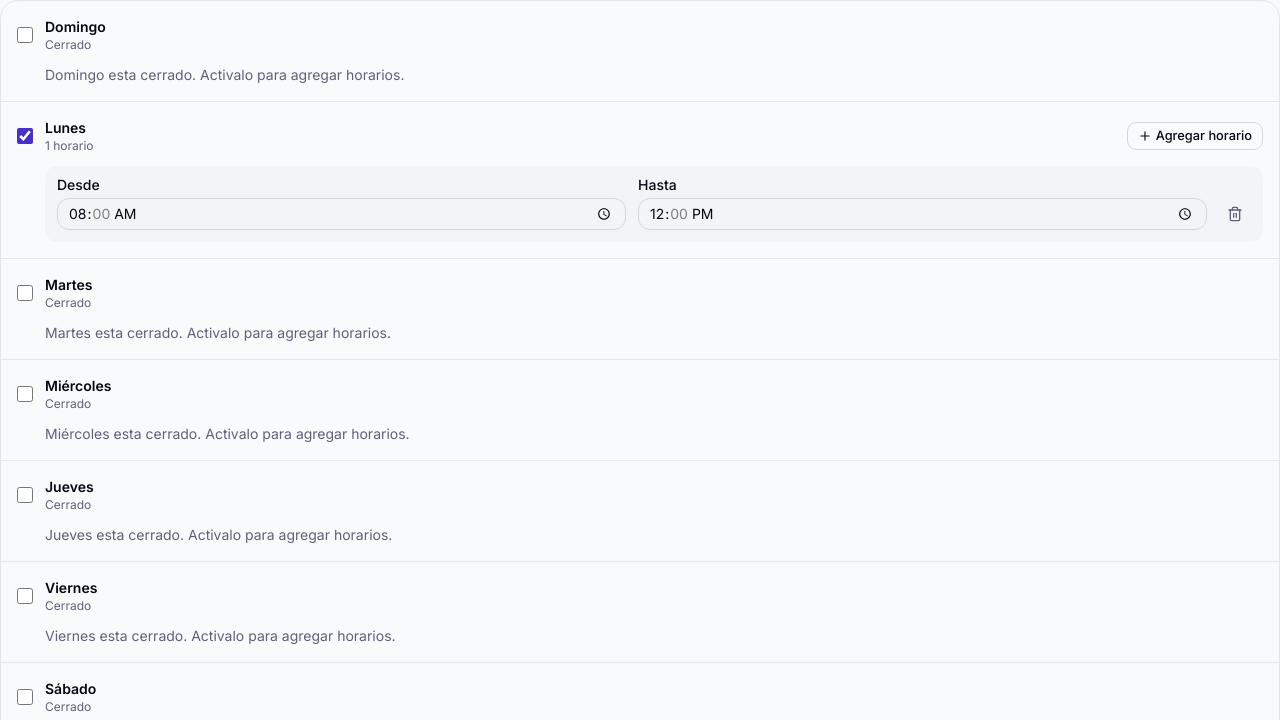
Test: WeeklyAvailabilityEditor › cerrar un dia elimina sus rangos del valor enviado
This screenshot has width=1280, height=720.
Click the checkbox named "lunes abierto". click: [25, 136]
box: [17,128,33,144]
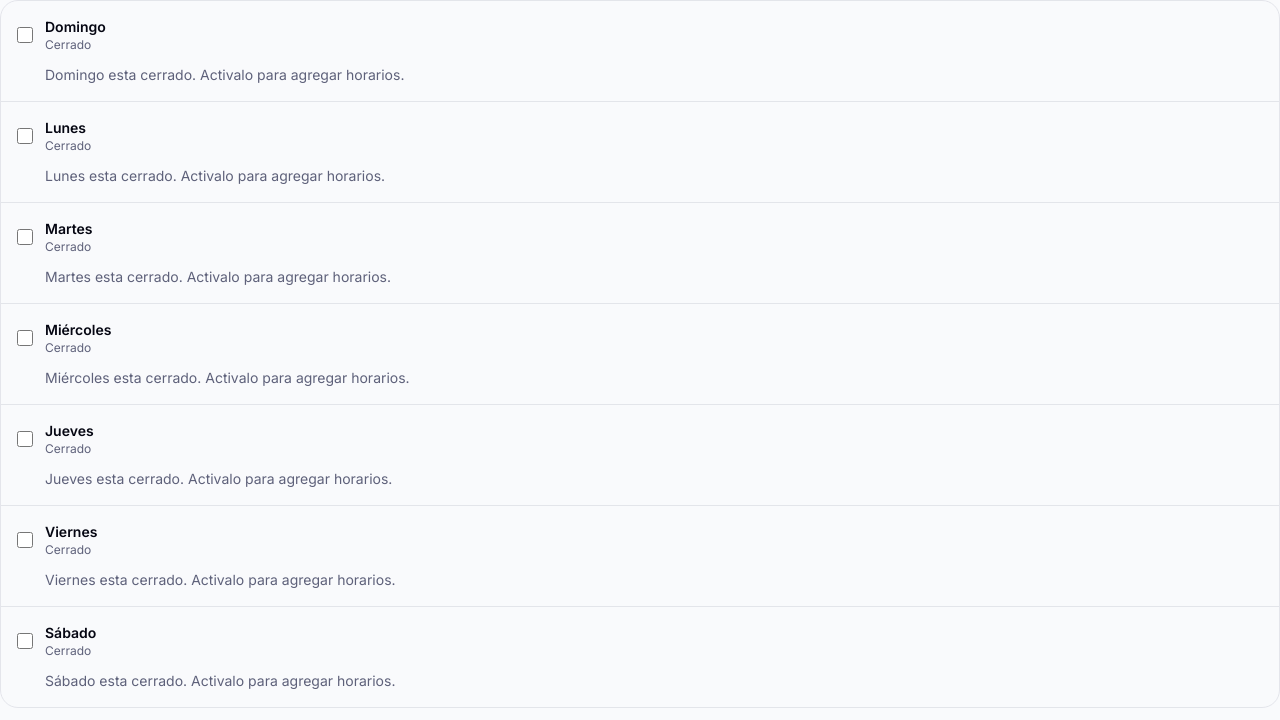
Expected: the text "Lunes esta cerrado. Activalo para agregar horarios." is shown, [45,167,385,184]
